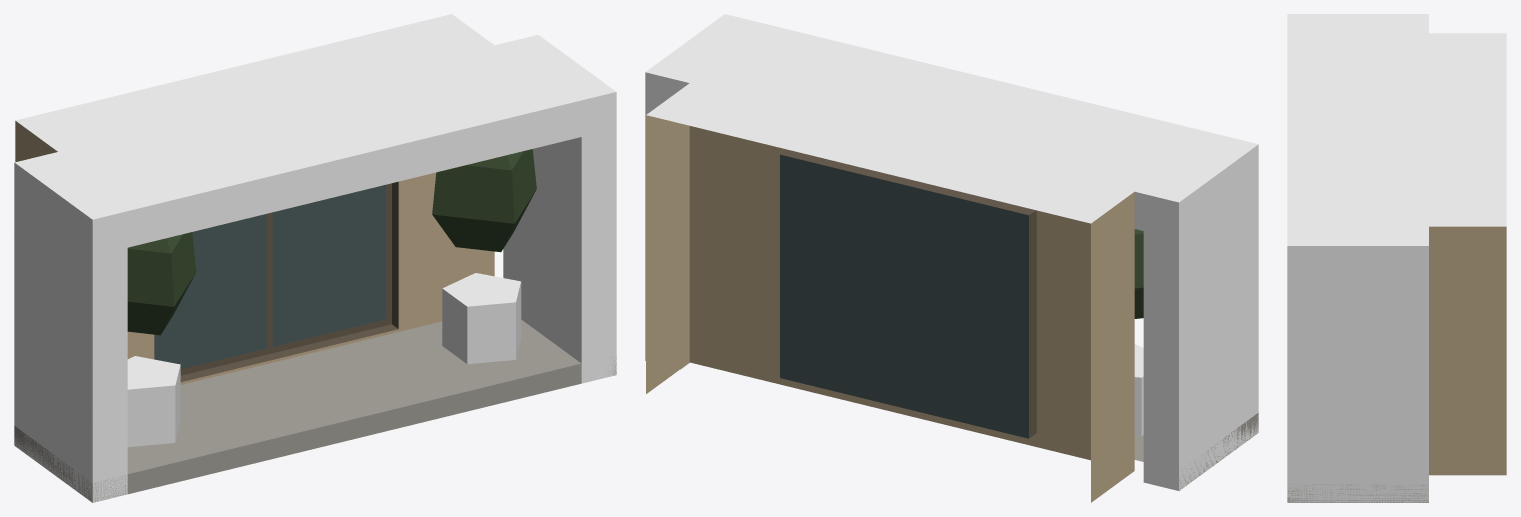
The model's file is entrance.fbx.
3 views of the same model, side by side, from view 1: azimuth 30°, elevation 25°; view 2: azimuth 150°, elevation 25°; view 3: azimuth 270°, elevation 25° (orthographic). The views are drawn at different scales.
Parts seen in each view (by area): view 1: a2019/500/entrance; view 2: a2019/500/entrance; view 3: a2019/500/entrance.
Boxes of the visible parts, x1=… form: a2019/500/entrance: x1=14, y1=14, x2=616, y2=502; a2019/500/entrance: x1=645, y1=14, x2=1258, y2=502; a2019/500/entrance: x1=1287, y1=14, x2=1506, y2=502.
Bounding box in the file's own units: 6 × 3.1 × 2.4.
